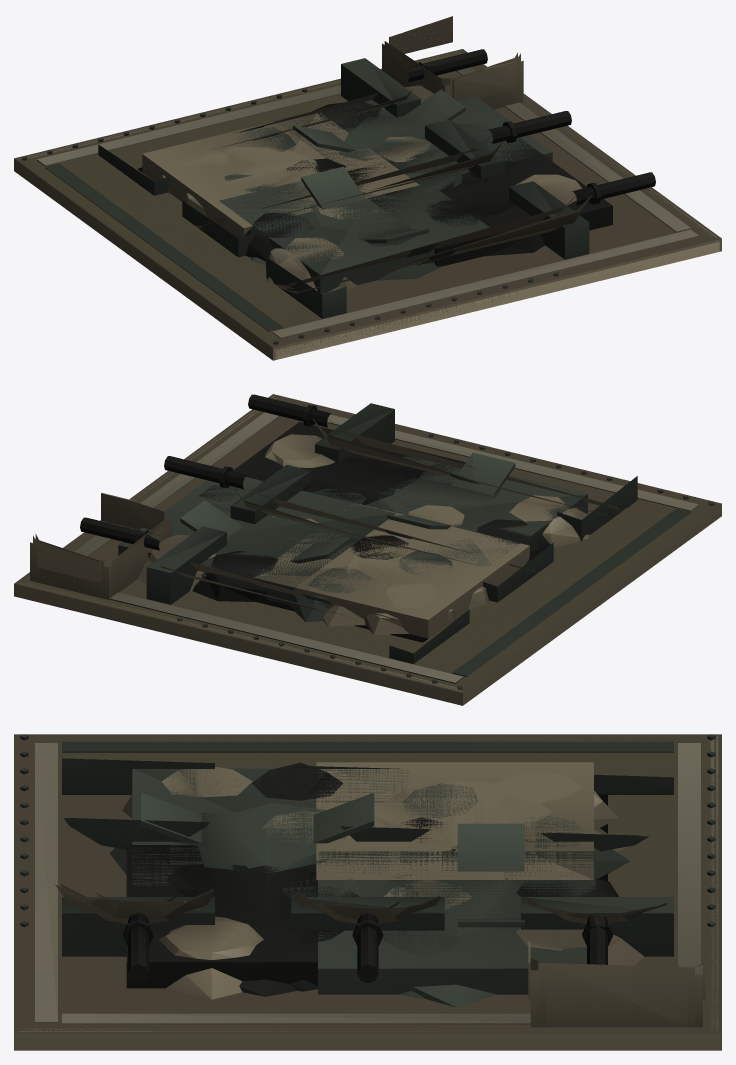
The model's file is neutral_fuel_depot_burnt_out.glb.
The picture shows the model from 3 angles, top to bottom: view 1: azimuth 30°, elevation 25°; view 2: azimuth 150°, elevation 25°; view 3: azimuth 270°, elevation 25°; orthographic projection. The views are drawn at different scales.
Parts seen in each view (by area): view 1: body (×3); view 2: body (×3); view 3: body (×3).
Boxes of the visible parts, x1=… form: body (×3): x1=14, y1=16, x2=721, y2=360; body (×3): x1=14, y1=394, x2=721, y2=705; body (×3): x1=14, y1=734, x2=721, y2=1050.
Size of the model in its own units: 7.4 by 0.973 by 7.4.
